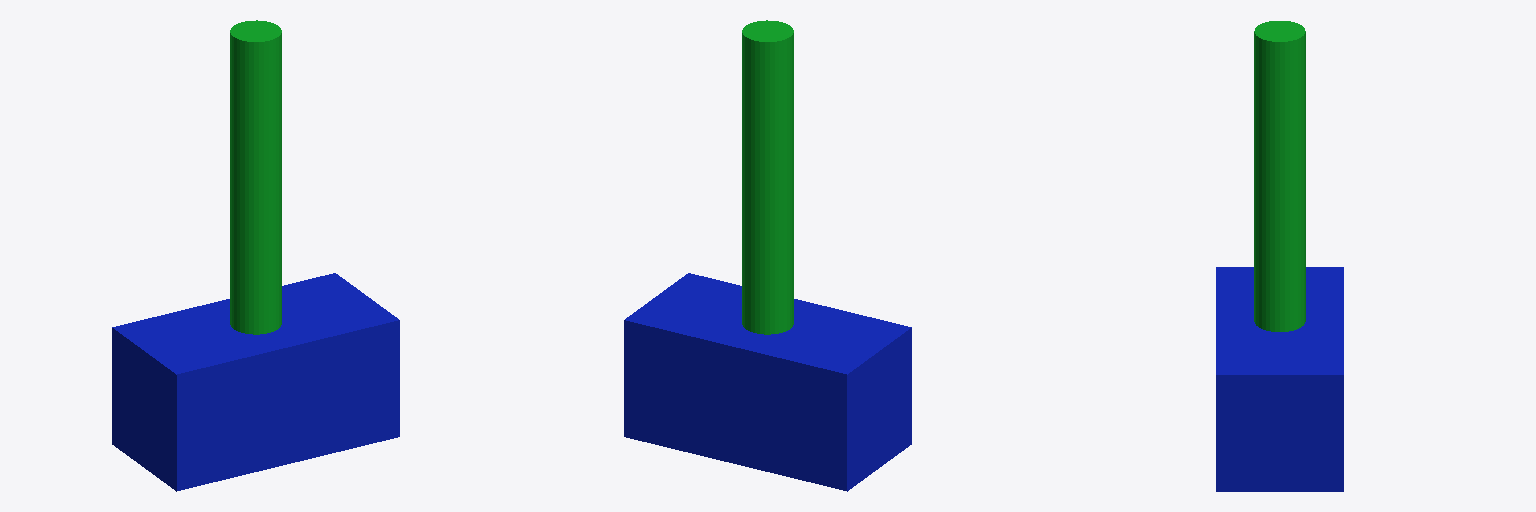
robot.urdf — simple_visual_robot:
<robot name="simple_visual_robot">
  <link name="chassis">
    <visual>
      <origin xyz="0 0 0.1"/>
      <geometry>
        <box size="0.4 0.2 0.2"/>
      </geometry>
      <material name="blue">
        <color rgba="0.1 0.2 0.8 1"/>
      </material>
    </visual>
    <inertial>
      <mass value="1.0"/>
      <inertia ixx="0.02" ixy="0" ixz="0" iyy="0.04" iyz="0" izz="0.05"/>
    </inertial>
  </link>

  <link name="mast">
    <visual>
      <origin xyz="0 0 0.25"/>
      <geometry>
        <cylinder radius="0.04" length="0.5"/>
      </geometry>
      <material name="green">
        <color rgba="0.1 0.7 0.2 1"/>
      </material>
    </visual>
    <inertial>
      <mass value="0.2"/>
      <inertia ixx="0.005" ixy="0" ixz="0" iyy="0.005" iyz="0" izz="0.001"/>
    </inertial>
  </link>

  <joint name="mast_joint" type="fixed">
    <parent link="chassis"/>
    <child link="mast"/>
    <origin xyz="0 0 0.2"/>
  </joint>
</robot>

--- Facts derived from the render (not from the file) ---
The picture shows the robot from 3 angles, left to right: view 1: azimuth 30°, elevation 25°; view 2: azimuth 150°, elevation 25°; view 3: azimuth 270°, elevation 25°; orthographic projection.
Model simple_visual_robot with 2 links and 1 joints (1 fixed), rooted at chassis, posed every joint at zero.
Links seen in each view (by area): view 1: chassis, mast; view 2: chassis, mast; view 3: chassis, mast.
Boxes of the visible links, x1=… form: chassis: x1=112, y1=273, x2=399, y2=491; mast: x1=230, y1=20, x2=281, y2=334; chassis: x1=624, y1=273, x2=911, y2=491; mast: x1=742, y1=20, x2=793, y2=334; chassis: x1=1216, y1=267, x2=1343, y2=491; mast: x1=1254, y1=21, x2=1305, y2=331.
Bounding box of the posed robot: 0.4 × 0.2 × 0.7 m (x, y, z).
Geometry: primitives only (box / cylinder / sphere), no mesh files.
